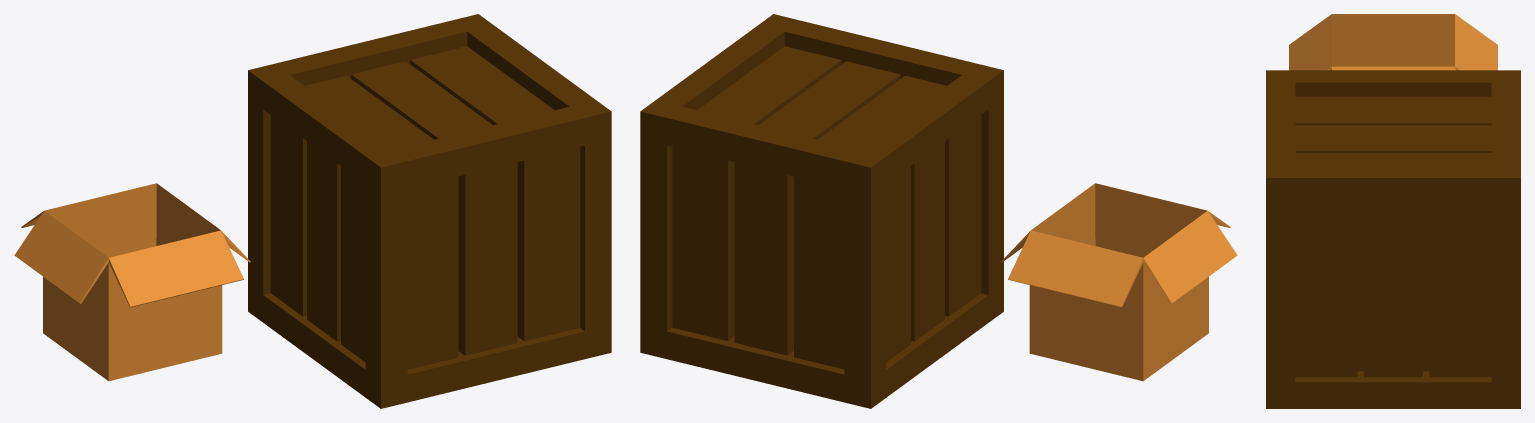
Rendered from Caixa.fbx.
The picture shows the model from 3 angles, left to right: view 1: azimuth 30°, elevation 25°; view 2: azimuth 150°, elevation 25°; view 3: azimuth 270°, elevation 25°; orthographic projection. The views are drawn at different scales.
Parts seen in each view (by area): view 1: caixa madeira, caixa cartão; view 2: caixa madeira, caixa cartão; view 3: caixa madeira, caixa cartão.
Part boxes in pixels (x1,y1,x2,y2): caixa madeira: (248,14,611,408); caixa cartão: (14,183,250,381); caixa madeira: (640,14,1003,408); caixa cartão: (1001,183,1237,381); caixa madeira: (1266,70,1520,408); caixa cartão: (1289,14,1497,70).
Size of the model in its own units: 276 by 128 by 128.
